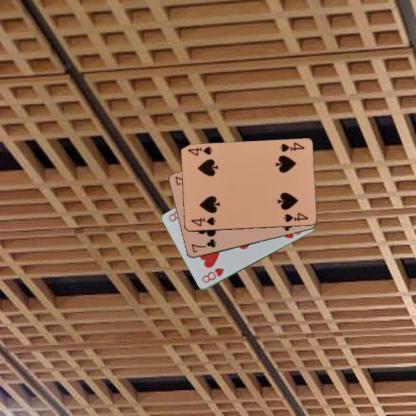4s: (277, 140, 306, 154), (188, 216, 217, 228)
7c: (189, 236, 218, 254)
8h: (200, 265, 226, 284)
